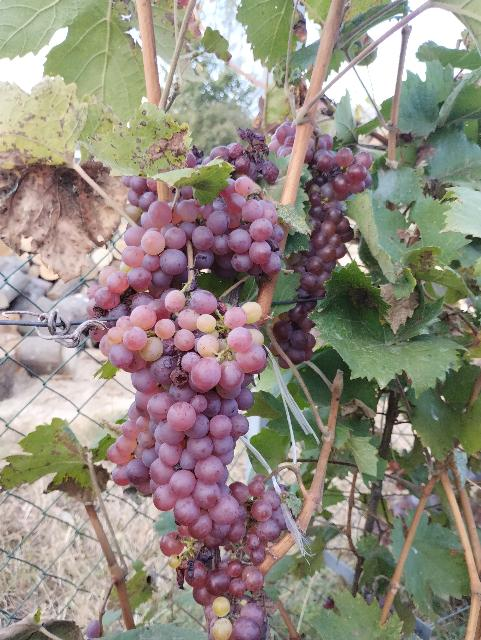grapes: (100, 289, 268, 549), (91, 175, 284, 310), (274, 134, 372, 364), (176, 475, 289, 640)
